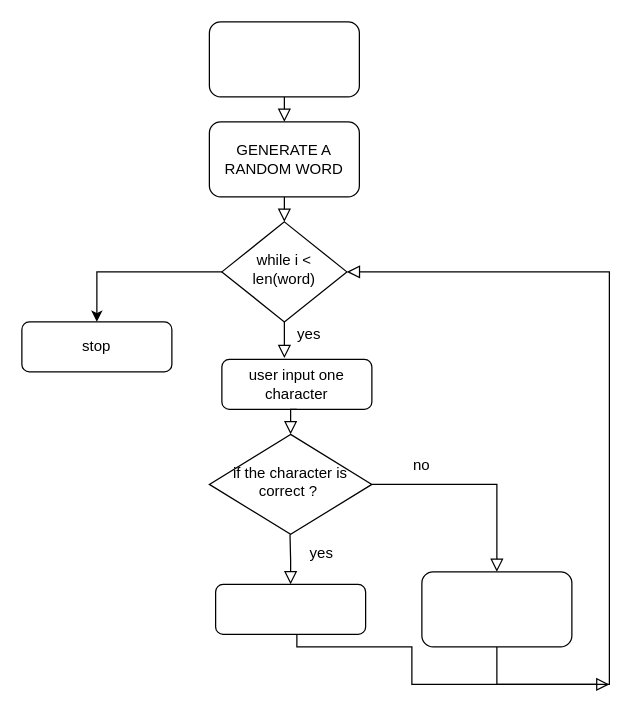
The diagram is 644 pixels wide and 719 high, and some of its shapes have lost their labels. The shapes that lost their labels are listed below. From the top down, each one's centre as x and y in pixels, then its label:
At (x=283, y=59): "Start".
At (x=290, y=608): "output the place of that letter in the word".
At (x=496, y=609): "step forward towards hangman's death".
